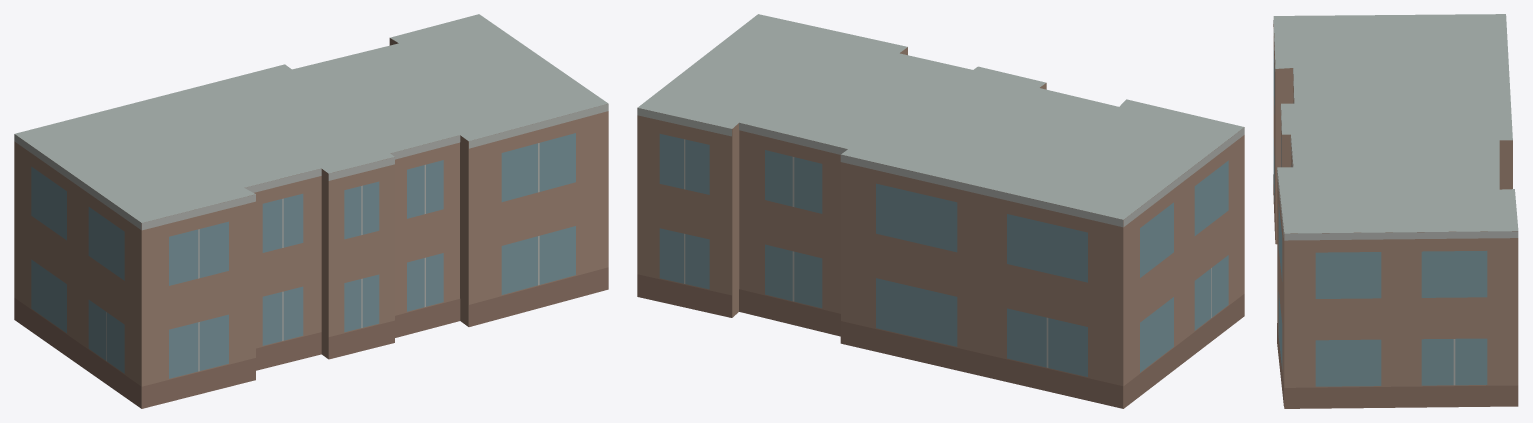
Rendered from survey-upis-33001950.glb.
3 views of the same model, side by side, from view 1: azimuth 30°, elevation 25°; view 2: azimuth 150°, elevation 25°; view 3: azimuth 270°, elevation 25° (orthographic). The views are drawn at different scales.
Parts seen in each view (by area): view 1: survey-upis-33001950.tmp; view 2: survey-upis-33001950.tmp; view 3: survey-upis-33001950.tmp.
Boxes of the visible parts, x1=… form: survey-upis-33001950.tmp: x1=14, y1=14, x2=608, y2=408; survey-upis-33001950.tmp: x1=637, y1=14, x2=1244, y2=408; survey-upis-33001950.tmp: x1=1273, y1=14, x2=1518, y2=408.
Bounding box in the file's own units: 16.39 × 6.1 × 7.73.
